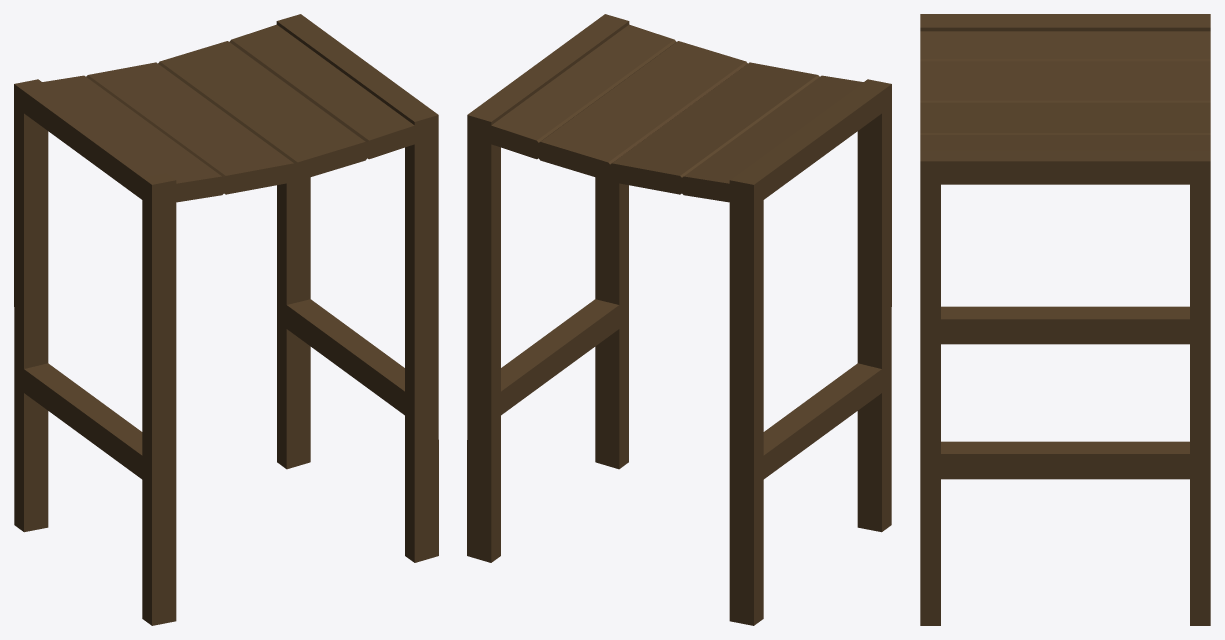
The model's file is Stool Chair.fbx.
3 views of the same model, side by side, from view 1: azimuth 30°, elevation 25°; view 2: azimuth 150°, elevation 25°; view 3: azimuth 270°, elevation 25° (orthographic). The views are drawn at different scales.
Visible parts, largest first — view 1: Plane.057; view 2: Plane.057; view 3: Plane.057.
Part boxes in pixels (x1,y1,x2,y2): Plane.057: (14, 14, 438, 625); Plane.057: (467, 14, 891, 625); Plane.057: (920, 14, 1210, 625).
Size of the model in its own units: 48.01 by 70.77 by 40.
